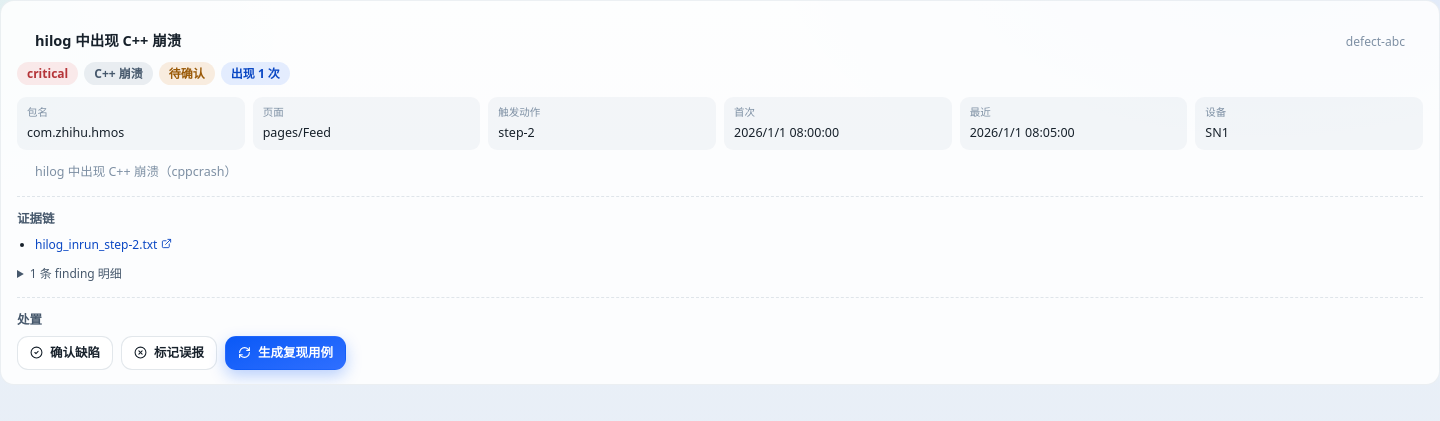
Test case: DefectDetail › reports a backend failure instead of silently swallowing it
This screenshot has width=1440, height=421.
Click the button "生成复现用例" at (286,353), box [225, 336, 346, 370]
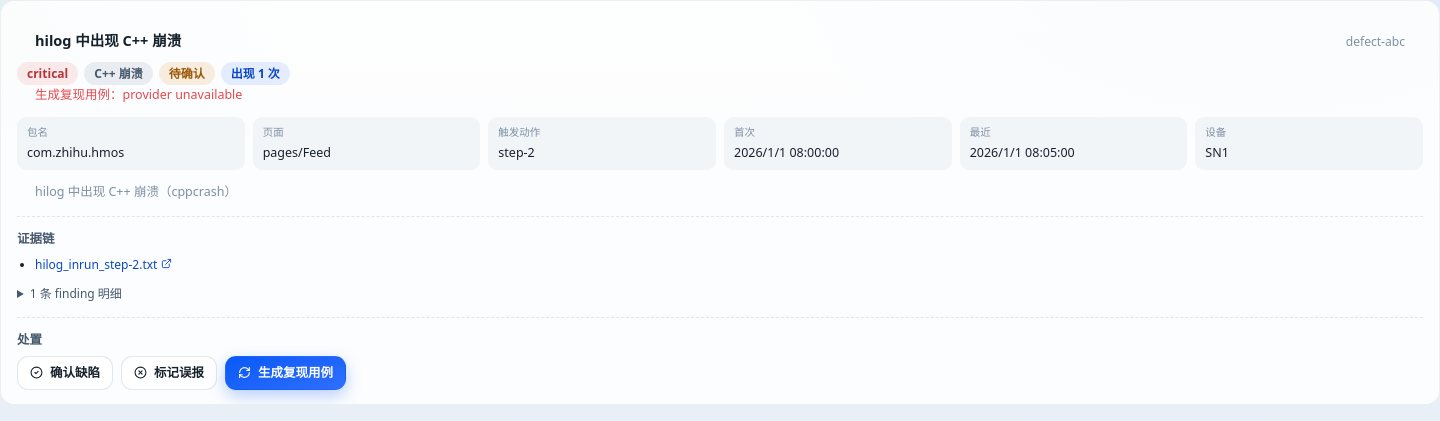
Check: the message "生成复现用例：provider unavailable" is shown, box [35, 86, 242, 103]
